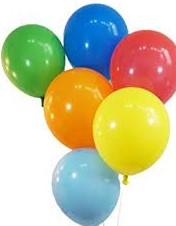Balloon: (92, 86, 169, 173), (53, 148, 120, 226), (64, 4, 128, 75), (2, 24, 64, 95)
